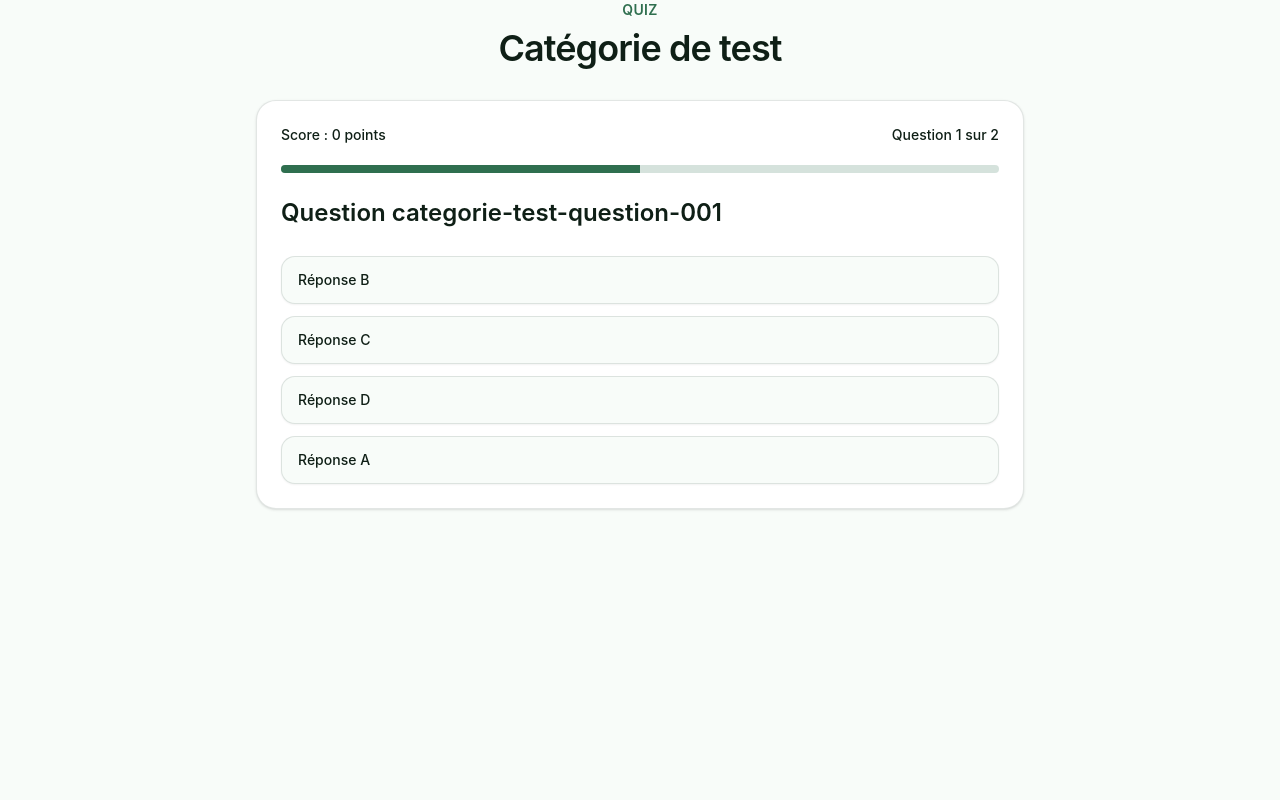
Test: QuizRunner › n’incrémente le score qu’une seule fois lors d’un double clic
Check: the heading "Catégorie de test" is shown, box [498,26,782,70]
Step 1. Double-click the button "Réponse B" → (334, 280), box [281,256,999,304]
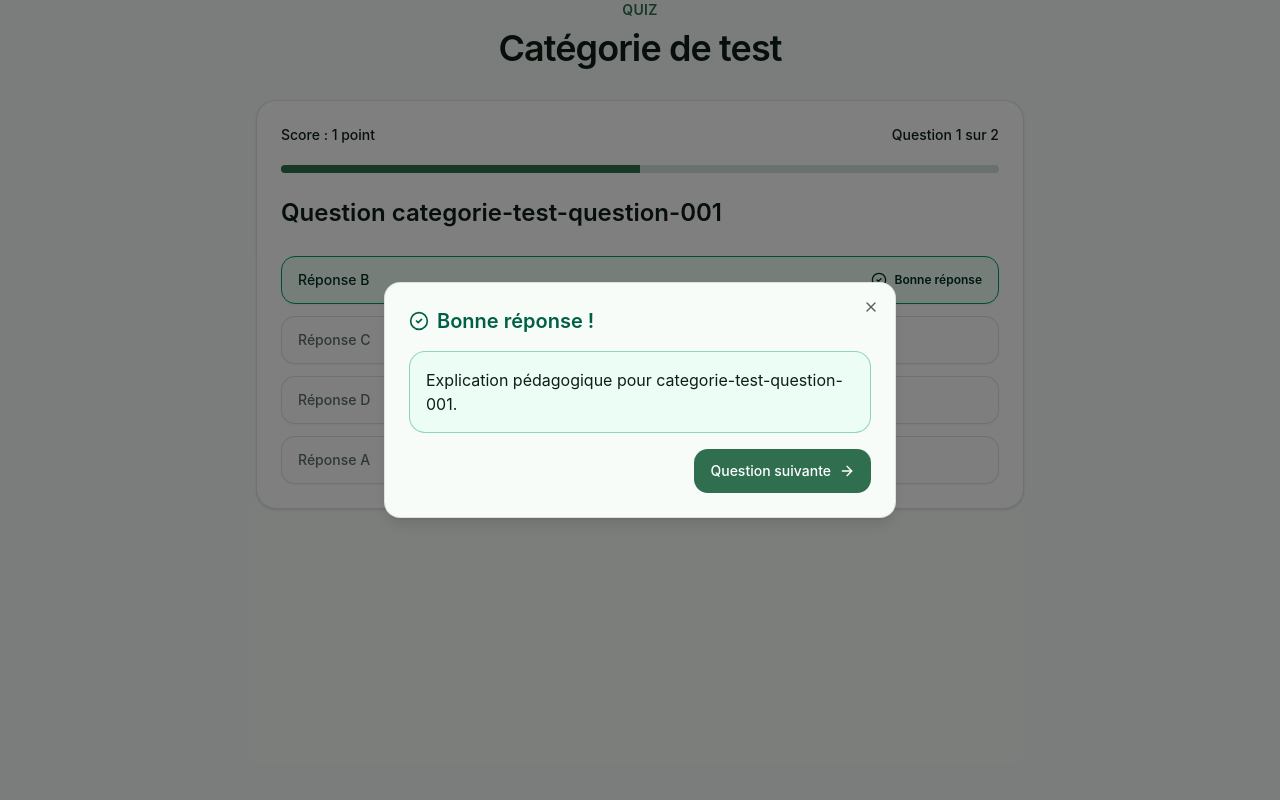
Check: the text "Score : 1 point" is shown, box [281,125,375,145]
Check: the number of dialogs is 1, box [384,282,896,518]
Check: the heading "Bonne réponse !" is shown, box [409,309,594,333]
